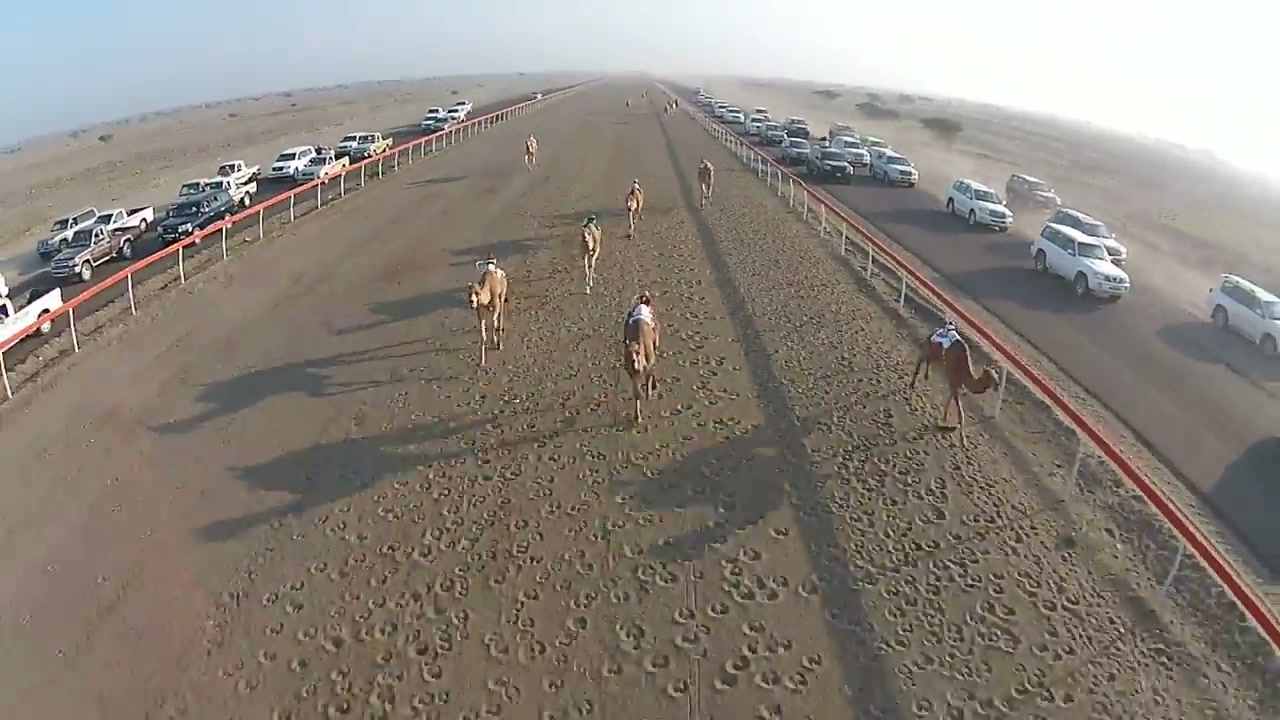animal_footprint: (210, 149, 1258, 719)
